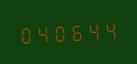four: (34, 21, 50, 44), (86, 19, 102, 42), (103, 18, 119, 41)
six: (69, 19, 85, 43)
zero: (52, 20, 68, 44), (17, 22, 33, 45)
